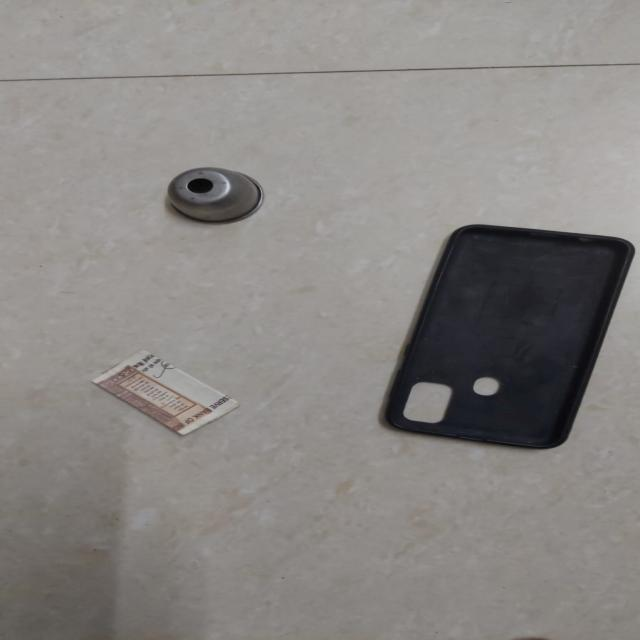metal: (162, 164, 266, 226)
paper: (88, 350, 244, 439)
plastic: (373, 218, 640, 452)
